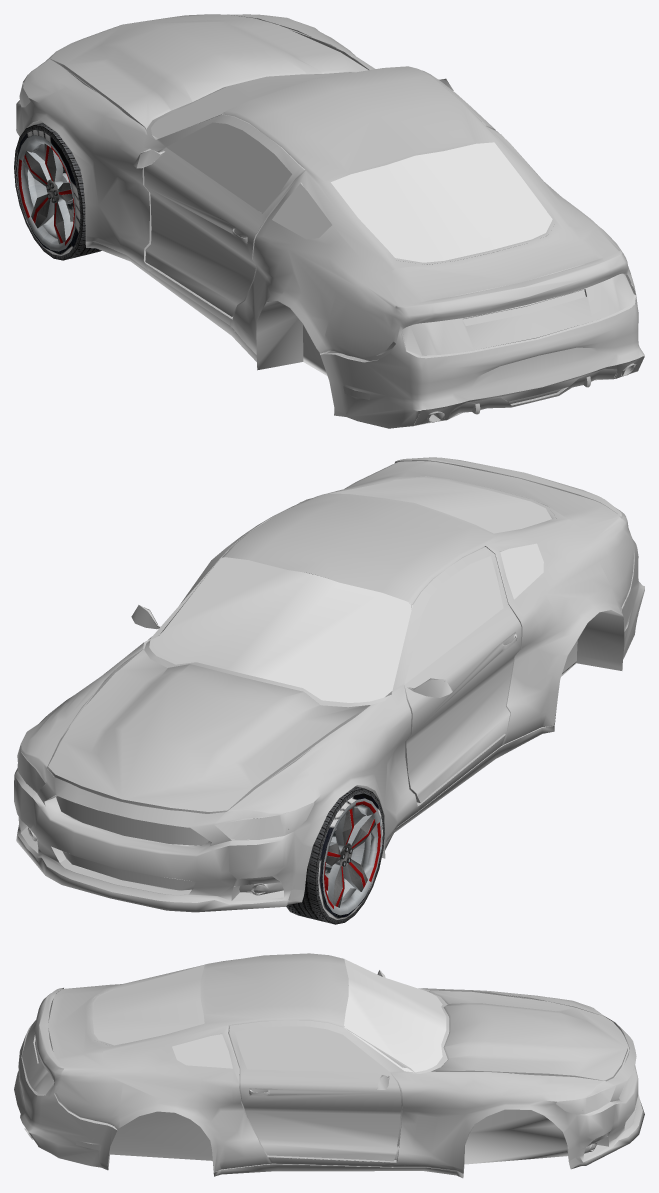
The model's file is sports gt 2015.fbx.
The picture shows the model from 3 angles, top to bottom: view 1: azimuth 30°, elevation 25°; view 2: azimuth 150°, elevation 25°; view 3: azimuth 270°, elevation 25°; orthographic projection. The views are drawn at different scales.
Parts seen in each view (by area): view 1: sports gt 2015 body, sports gt 2015 glass, sports gt 2015 interior, sports gt 2015 tire; view 2: sports gt 2015 body, sports gt 2015 glass, sports gt 2015 interior, sports gt 2015 tire; view 3: sports gt 2015 body, sports gt 2015 glass, sports gt 2015 interior.
Part boxes in pixels (x1,y1,x2,y2): sports gt 2015 body: (16,14,644,428); sports gt 2015 glass: (19,72,552,262); sports gt 2015 interior: (23,41,644,425); sports gt 2015 tire: (14,123,101,260); sports gt 2015 body: (14,457,644,904); sports gt 2015 glass: (17,478,551,840); sports gt 2015 interior: (16,476,634,912); sports gt 2015 tire: (286,786,384,924); sports gt 2015 body: (14,953,642,1173); sports gt 2015 glass: (92,959,615,1114); sports gt 2015 interior: (21,970,644,1178).
Size of the model in its own units: 277 by 193 by 650.
